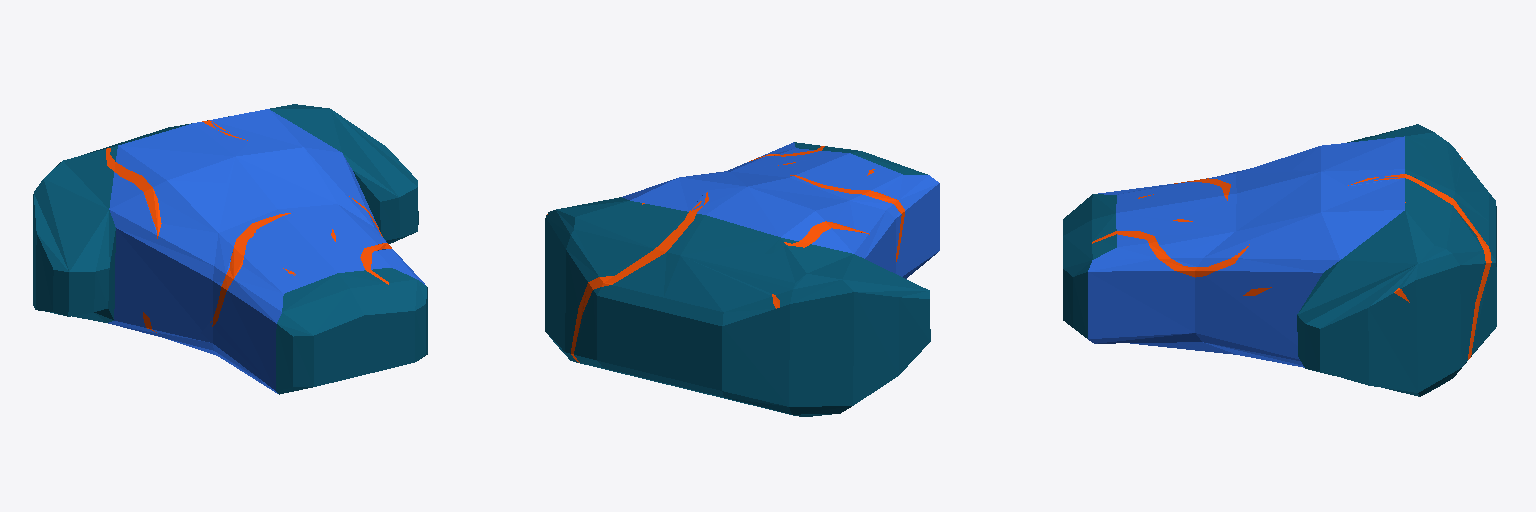
Rendered from CelestialArmour.obj.
The picture shows the model from 3 angles: view 1: azimuth 30°, elevation 25°; view 2: azimuth 150°, elevation 25°; view 3: azimuth 270°, elevation 25°; orthographic projection.
Visible parts, largest first — view 1: CelestialArmour; view 2: CelestialArmour; view 3: CelestialArmour.
Part boxes in pixels (left/top/right/bottom): CelestialArmour: left=33, top=104, right=427, bottom=394; CelestialArmour: left=545, top=142, right=939, bottom=416; CelestialArmour: left=1063, top=124, right=1496, bottom=396.
Size of the model in its own units: 1.01 by 0.4581 by 1.04.